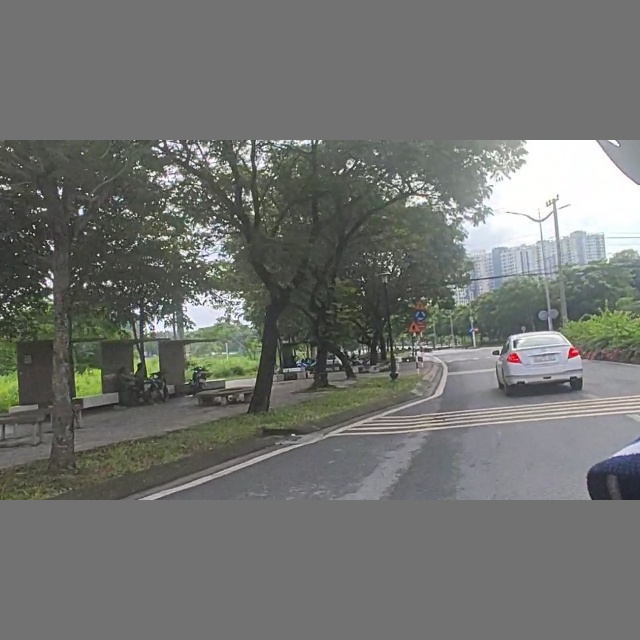P.102: (474, 327, 479, 332)
R.302a: (467, 327, 473, 333)
R.303: (415, 311, 426, 321)
W.207: (406, 321, 421, 333)
W.224: (415, 300, 426, 310)
